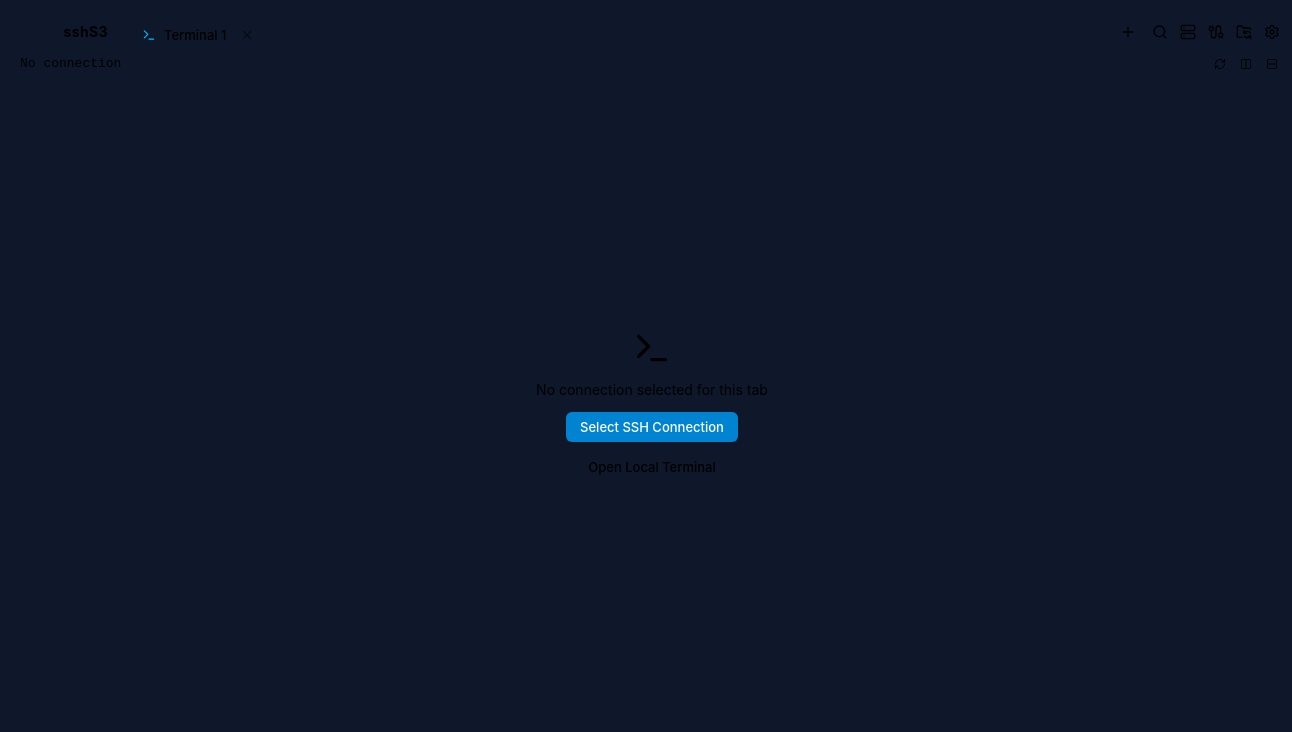
Scenario: App Component › opens a new filemanager tab when selected from new tab menu
Check: the tab with test id "tab-term-1" is shown, box [142,22,260,48]
# Click "+" button
Click the button with test id "add-tab-btn" at (1128, 32), box [1116,20,1140,44]
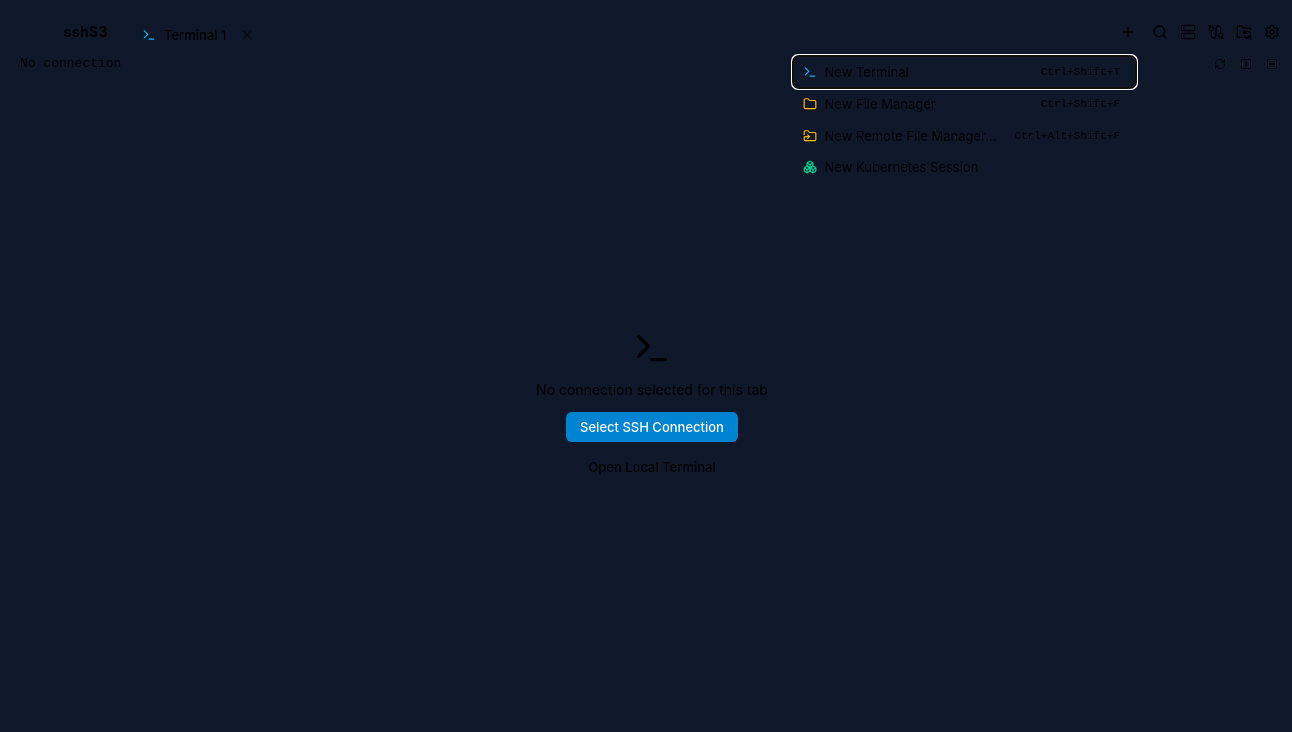
# Click "Ny filhanterare"
Click the menu item with test id "new-filemanager-btn" at (880, 104), box [792,88,1136,120]
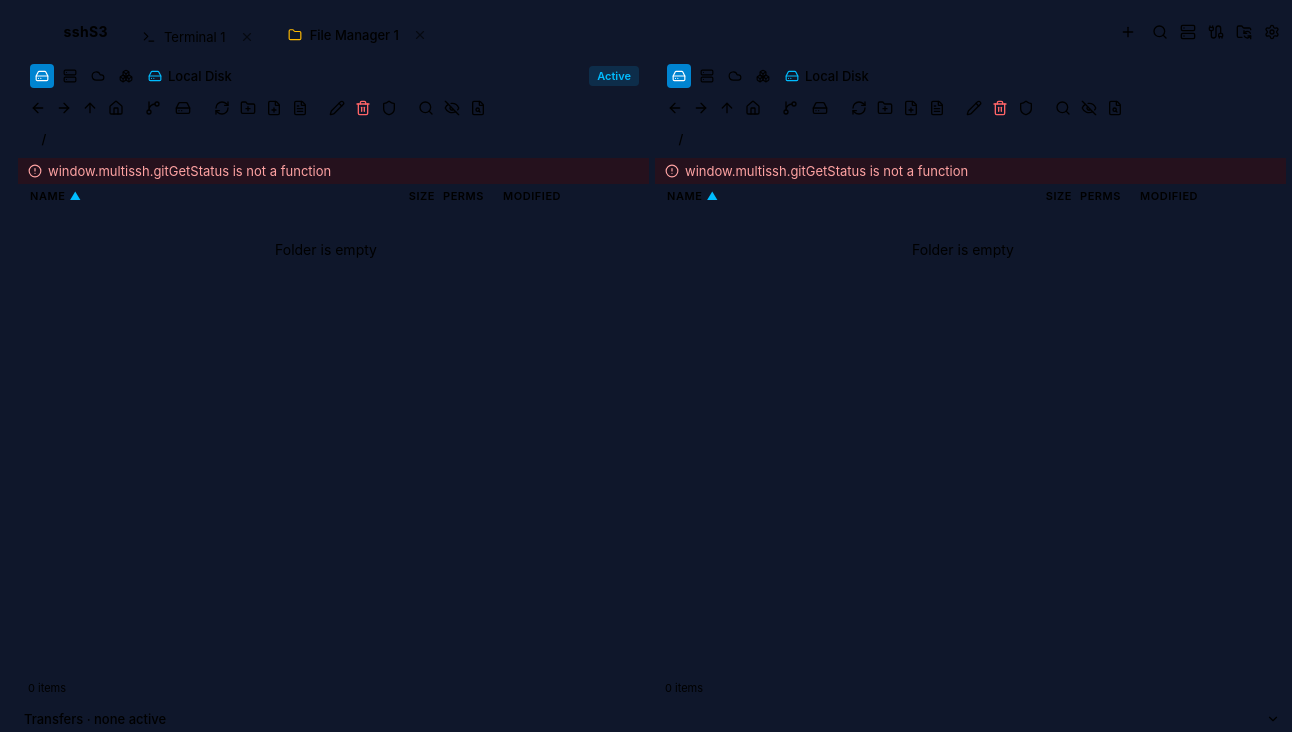
Check: the number of tabs is 2, box [142,24,260,50]; [276,18,445,52]
Check: the text "File Manager 1" is shown, box [310,26,399,44]
